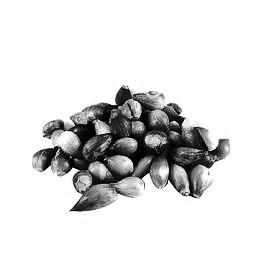bukan telur: (116, 176, 145, 200), (108, 111, 132, 138), (59, 130, 82, 157), (151, 155, 170, 187), (172, 165, 191, 197), (144, 131, 170, 153), (147, 108, 171, 131), (173, 146, 202, 165), (90, 161, 113, 182), (34, 147, 53, 172), (113, 139, 139, 154)
